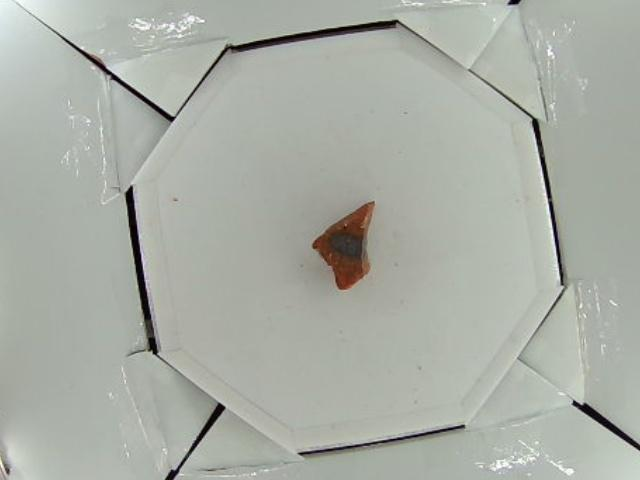Brisk: (312, 199, 378, 290)
